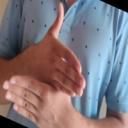hand: (21, 3, 86, 97), (3, 75, 82, 128)
